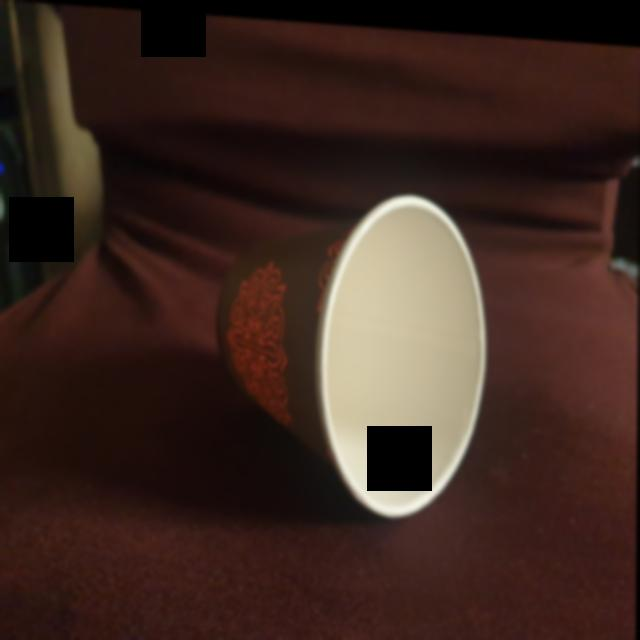cups: (208, 168, 491, 523)
